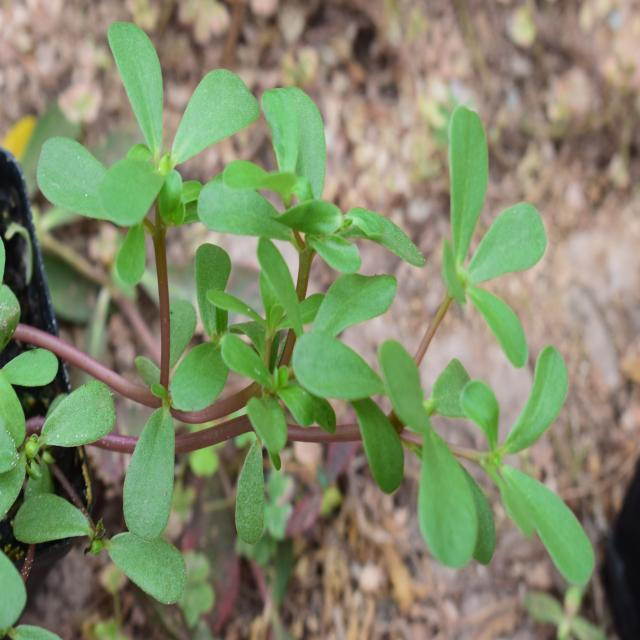purslane: (28, 16, 611, 609)
